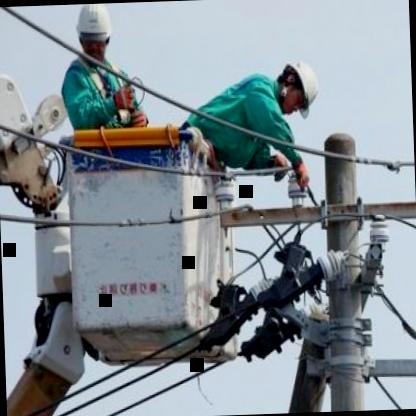helmet: (273, 55, 322, 118), (73, 4, 120, 66)
